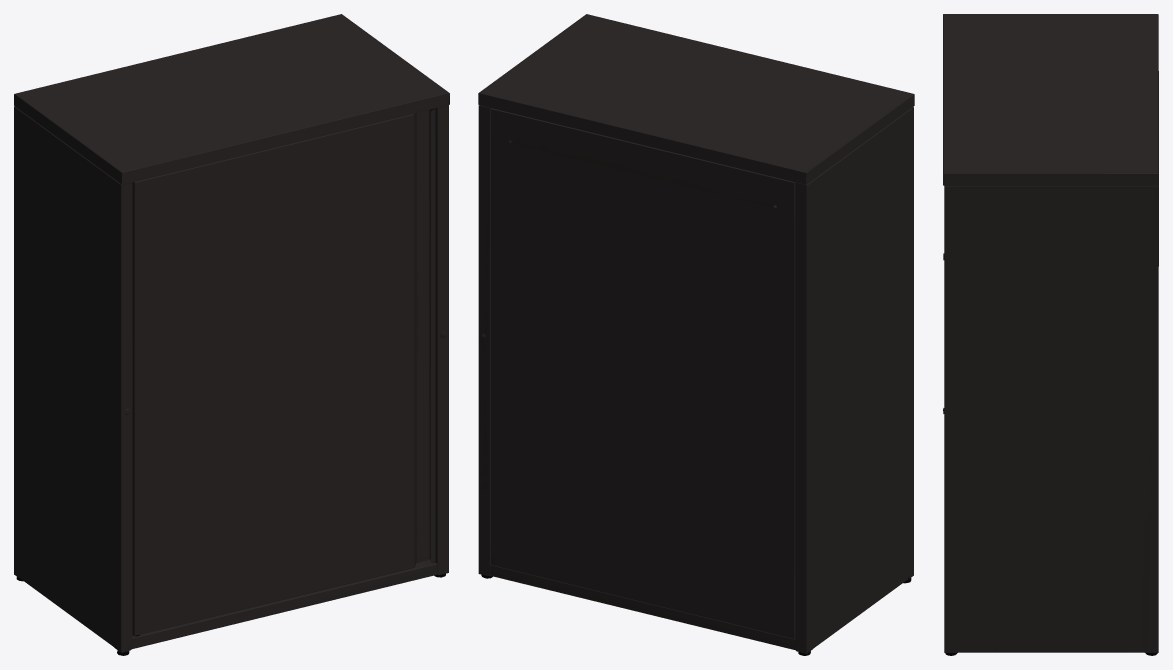
Rendered from sundso_szafka_70584188.glb.
3 views of the same model, side by side, from view 1: azimuth 30°, elevation 25°; view 2: azimuth 150°, elevation 25°; view 3: azimuth 270°, elevation 25° (orthographic).
Visible parts, largest first — view 1: sundso_szafka_70584188; view 2: sundso_szafka_70584188; view 3: sundso_szafka_70584188.
Boxes of the visible parts, box(x1,y1,x2,y2) form: sundso_szafka_70584188: box(14, 14, 449, 655); sundso_szafka_70584188: box(478, 14, 914, 655); sundso_szafka_70584188: box(943, 14, 1158, 655).
Size of the model in its own units: 0.6002 by 0.8489 by 0.3427.
2 materials, 2 textured.
